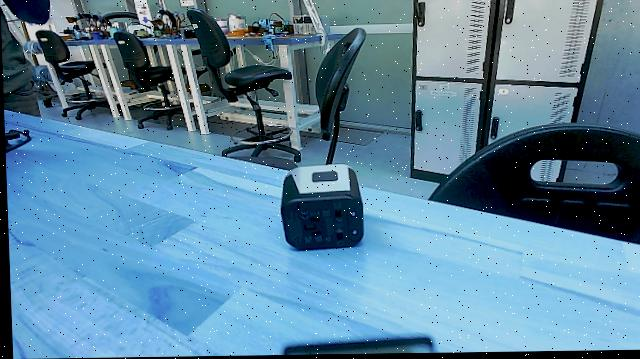adapter: (273, 162, 365, 259)
